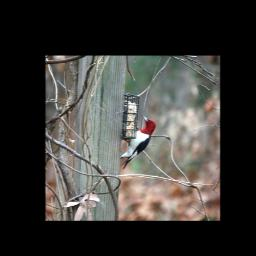Woodpecker: (117, 113, 159, 172)
